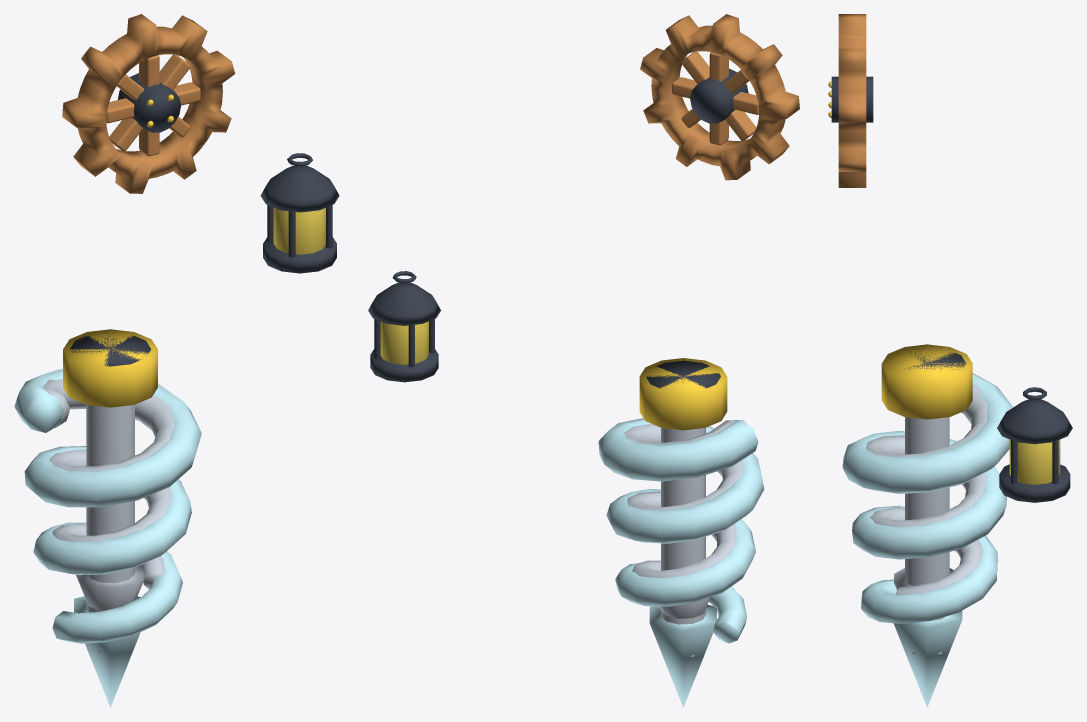
The model's file is IceDrill_T1_Upgrades.fbx.
3 renders of one model, left to right at view 1: azimuth 30°, elevation 25°; view 2: azimuth 150°, elevation 25°; view 3: azimuth 270°, elevation 25°, orthographic. The views are drawn at different scales.
Parts seen in each view (by area): view 1: IceDrillT1U5BitA, IceDrillT1U3Gear1, IceDrillT1U1BitA, IceDrillT1U2Lamp1, IceDrillT1U2Lamp1Glow; view 2: IceDrillT1U5BitA, IceDrillT1U3Gear1, IceDrillT1U1BitA, IceDrillT1U2Lamp1, IceDrillT1U2Lamp1Glow; view 3: IceDrillT1U5BitA, IceDrillT1U3Gear1, IceDrillT1U1BitA, IceDrillT1U2Lamp1, IceDrillT1U2Lamp1Glow.
Part boxes in pixels (<box>): IceDrillT1U5BitA: <box>14,329,201,707</box>; IceDrillT1U3Gear1: <box>62,14,235,193</box>; IceDrillT1U1BitA: <box>42,332,174,610</box>; IceDrillT1U2Lamp1: <box>260,153,339,273</box>; IceDrillT1U2Lamp1Glow: <box>273,207,325,254</box>; IceDrillT1U5BitA: <box>598,358,764,707</box>; IceDrillT1U3Gear1: <box>640,14,799,180</box>; IceDrillT1U1BitA: <box>624,360,742,618</box>; IceDrillT1U2Lamp1: <box>368,271,440,382</box>; IceDrillT1U2Lamp1Glow: <box>380,321,428,364</box>; IceDrillT1U5BitA: <box>842,344,1013,707</box>; IceDrillT1U3Gear1: <box>828,14,873,187</box>; IceDrillT1U1BitA: <box>865,348,987,595</box>; IceDrillT1U2Lamp1: <box>997,387,1072,502</box>; IceDrillT1U2Lamp1Glow: <box>1009,439,1060,484</box>.
Size of the model in its own units: 107 by 202 by 64.96.
